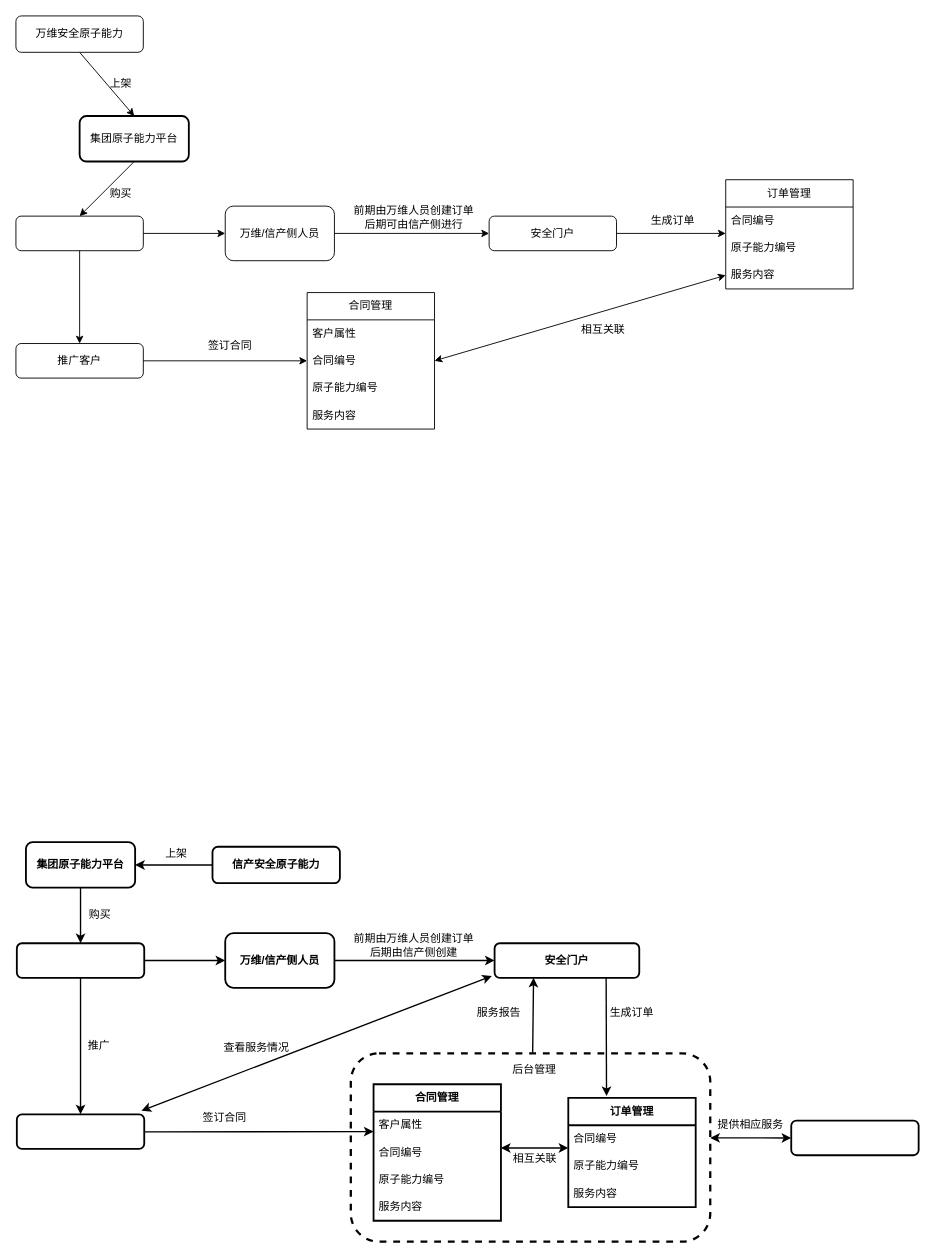
The diagram is 935 pixels wide and 1259 high, and some of its shapes have lost their labels. Here are the shapes that lost their labels. From the top down, the centre of each, then its label:
(79,233): 信产/信产分公司 （获得安全服务能力）
(80,960): 信产分公司 （获得安全服务能力）
(80,1131): 用户
(854,1137): 安全能力平台
